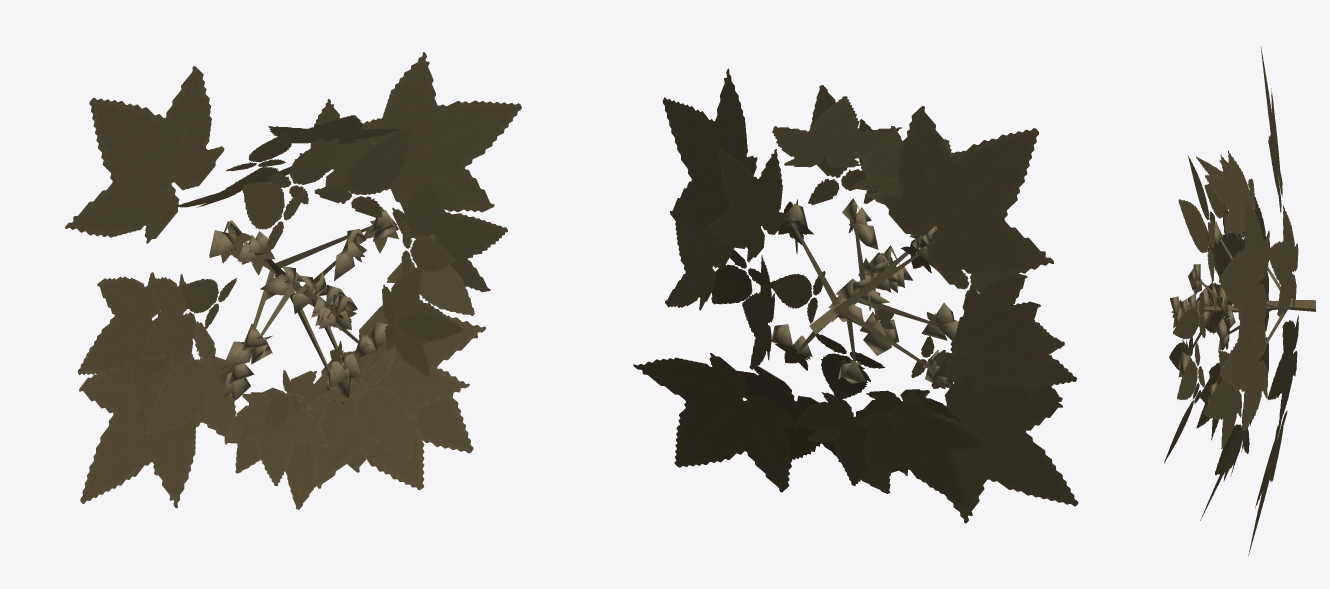
Rendered from p_male_afghan_flowering_c4_cards.obj.
The picture shows the model from 3 angles, left to right: view 1: azimuth 30°, elevation 25°; view 2: azimuth 150°, elevation 25°; view 3: azimuth 270°, elevation 25°; orthographic projection. The views are drawn at different scales.
Size of the model in its own units: 1.26 by 1.26 by 0.385.
1 material, 1 textured.
